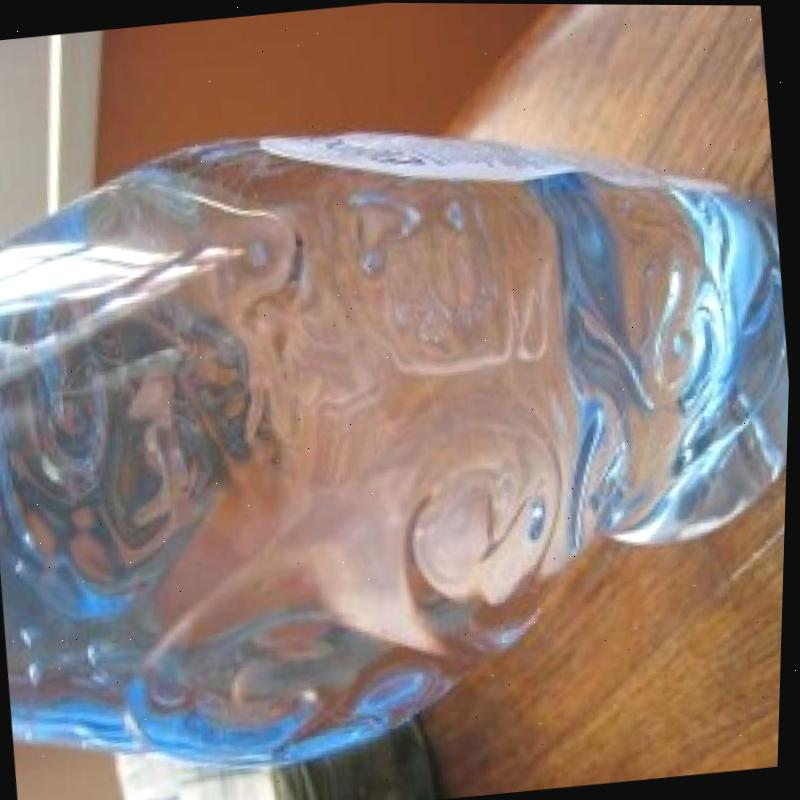botella: (0, 83, 798, 797)
